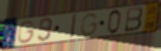0: (106, 9, 123, 35)
9: (37, 17, 53, 43)
B: (124, 6, 145, 33)
G: (80, 12, 100, 38), (17, 20, 37, 45)
I: (68, 13, 78, 40)
